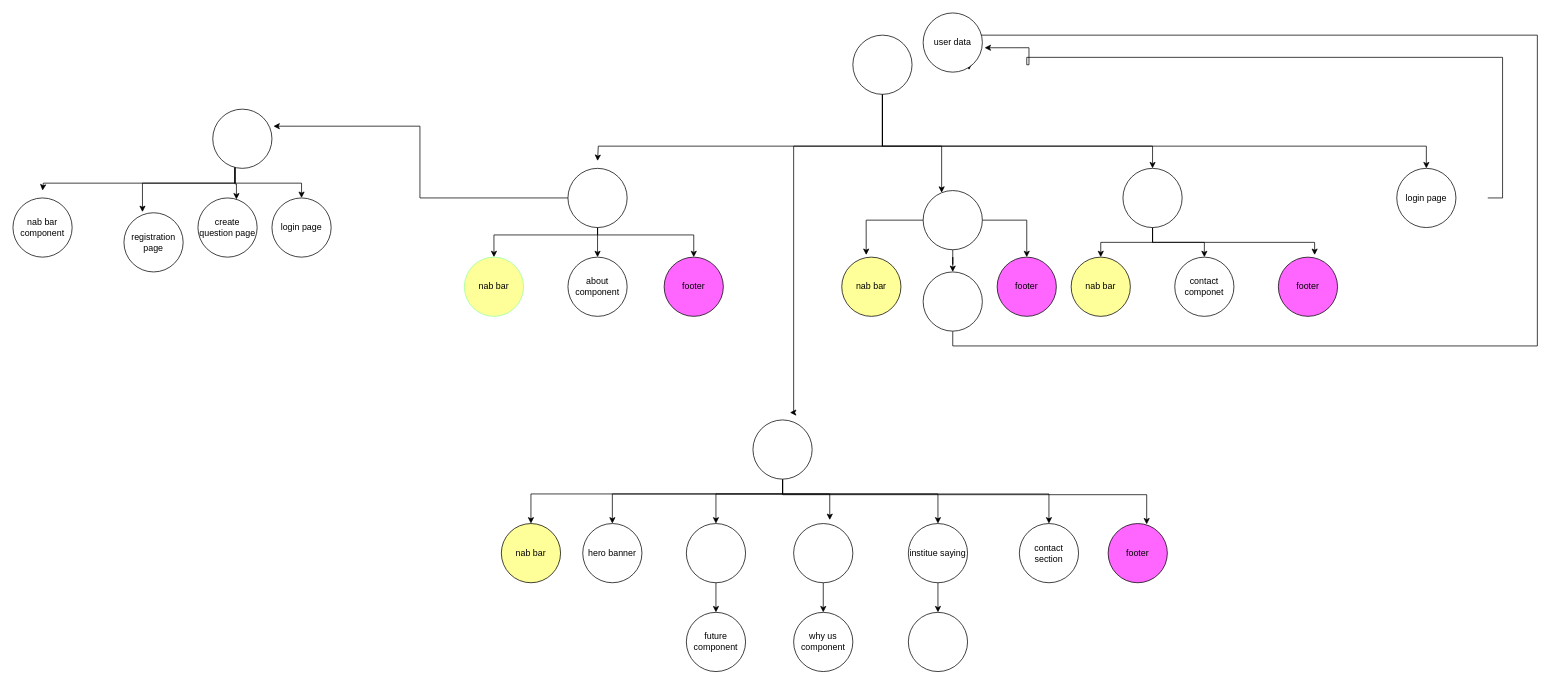
The diagram is 1556 pixels wide and 685 high, and some of its shapes have lost their labels. The centre of each missing label's shape, as x and y in pixels:
"about page" belongs at (597,198).
"admin" belongs at (242,138).
"App" belongs at (882,64).
"contact page" belongs at (1152,198).
"feature section" belongs at (716,553).
"home page" belongs at (782,449).
"institute component" belongs at (938,642).
"question filed component" belongs at (952,301).
"question page" belongs at (952,220).
"why us section" belongs at (823,553).
